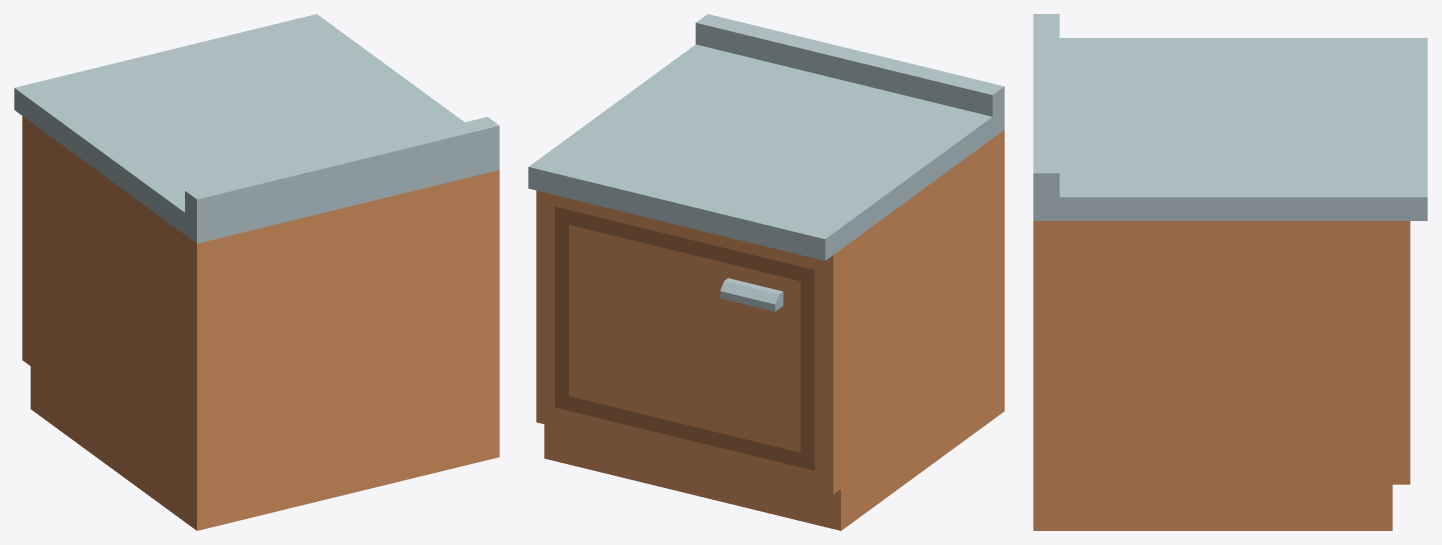
The model's file is Kitchen Cabinet by Kenney - tWyOLYYHPw.glb.
3 views of the same model, side by side, from view 1: azimuth 30°, elevation 25°; view 2: azimuth 150°, elevation 25°; view 3: azimuth 270°, elevation 25° (orthographic). The views are drawn at different scales.
Parts seen in each view (by area): view 1: kitchenCabinet; view 2: kitchenCabinet, door; view 3: kitchenCabinet.
Part boxes in pixels (left/top/right/bottom): kitchenCabinet: left=14, top=14, right=499, bottom=530; kitchenCabinet: left=528, top=14, right=1004, bottom=530; door: left=555, top=206, right=814, bottom=470; kitchenCabinet: left=1033, top=14, right=1427, bottom=530.
Bounding box in the file's own units: 0.43 × 0.45 × 0.45.
